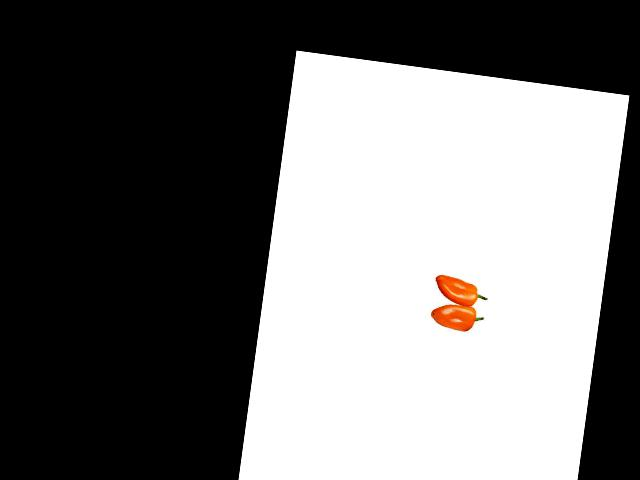bell_pepper: (417, 298, 486, 339)
